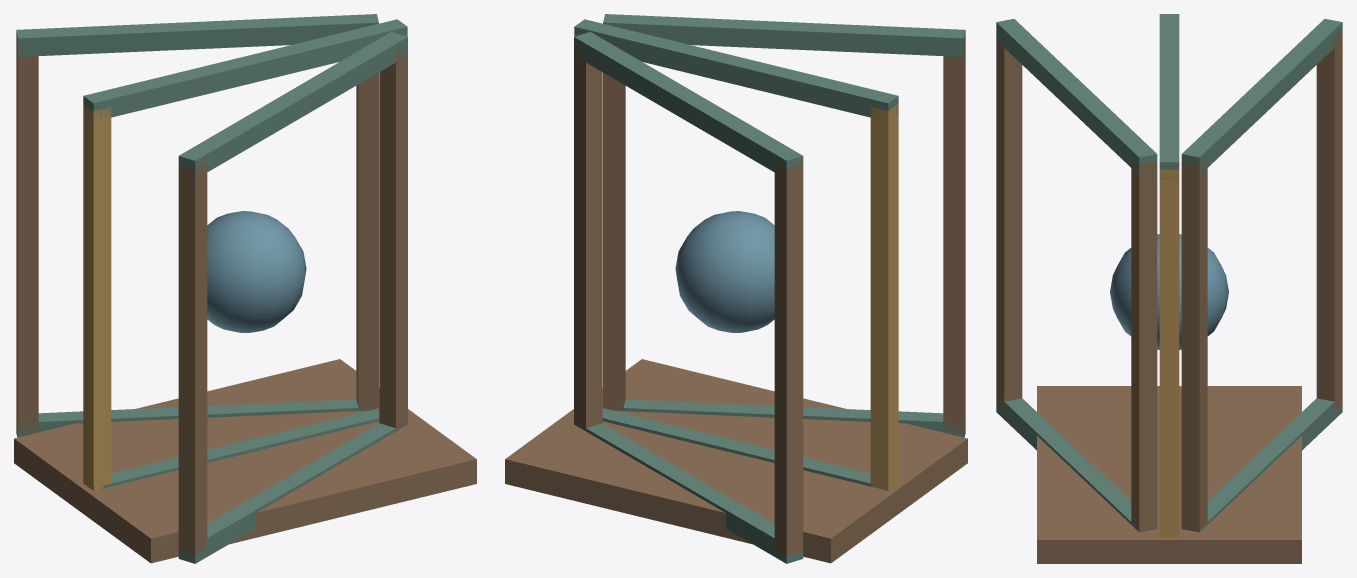
3 views of the same model, side by side, from view 1: azimuth 30°, elevation 25°; view 2: azimuth 150°, elevation 25°; view 3: azimuth 270°, elevation 25° (orthographic). The views are drawn at different scales.
Bounding box in the file's own units: 1.1 × 1.33 × 1.05.
